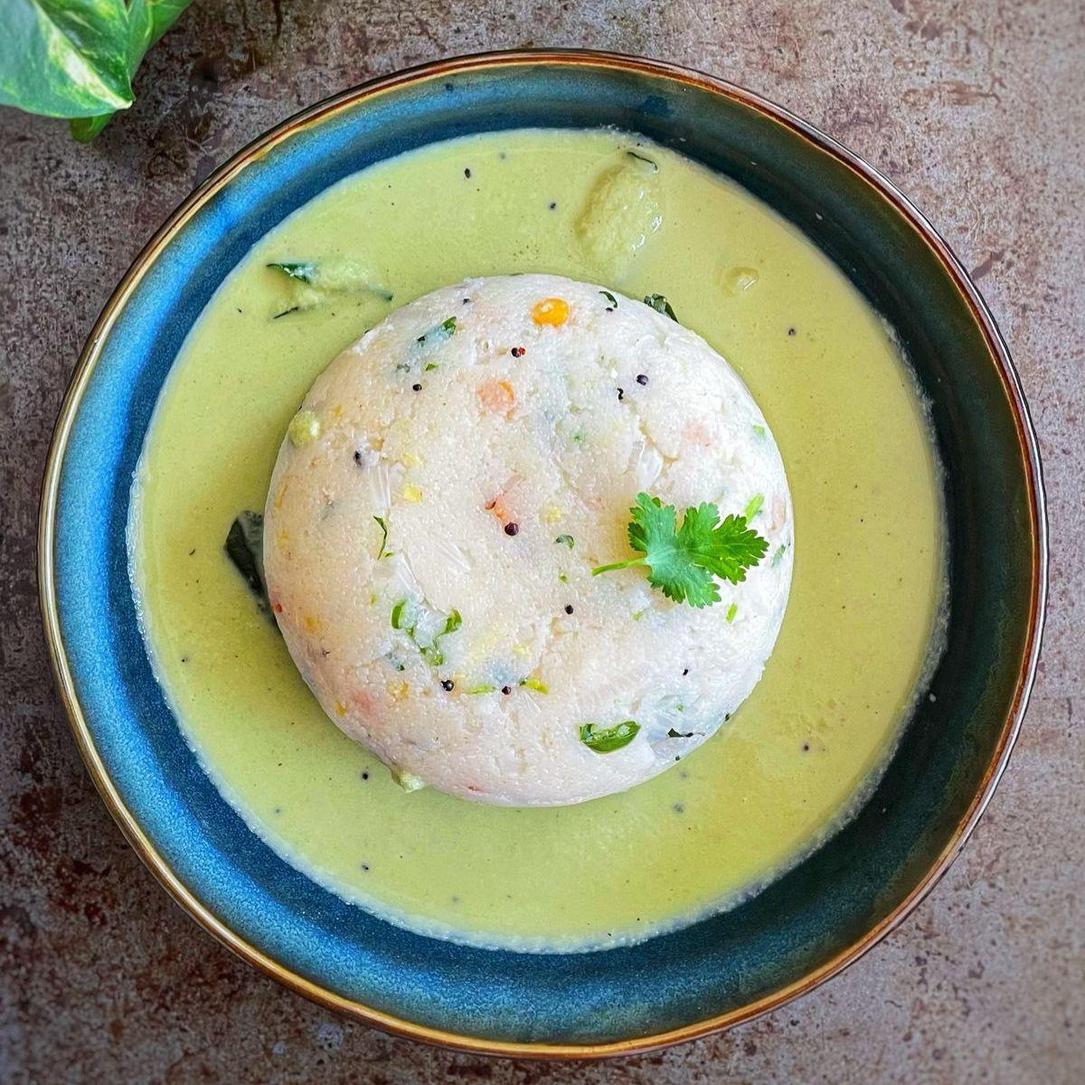upma: (290, 254, 786, 830)
